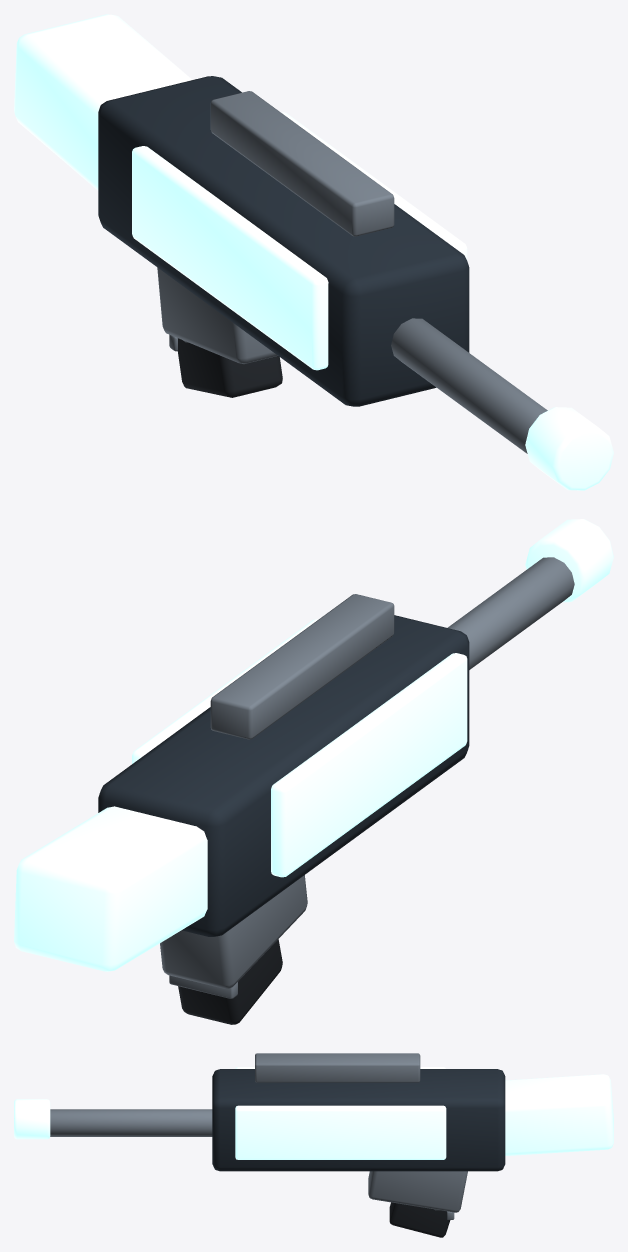
The model's file is Soldier_AssaultRifle.fbx.
3 renders of one model, top to bottom at view 1: azimuth 30°, elevation 25°; view 2: azimuth 150°, elevation 25°; view 3: azimuth 270°, elevation 25°, orthographic. The views are drawn at different scales.
Parts seen in each view (by area): view 1: Receiver.007, SideArmorLeft.003, Stock.003, TopRail.007, Barrel_00.003, MuzzleBrake.003, Magazine.001, Grip.007, SideArmorRight.003; view 2: Receiver.007, Stock.003, SideArmorLeft.003, TopRail.007, Magazine.001, Barrel_00.003, MuzzleBrake.003, Grip.007, SideArmorRight.003; view 3: Receiver.007, SideArmorRight.003, Stock.003, TopRail.007, Barrel_00.003, Magazine.001, MuzzleBrake.003, Grip.007.
Boxes of the visible parts, x1,y1,x2,y2 form: Receiver.007: [98, 76, 469, 406]; SideArmorLeft.003: [132, 146, 328, 370]; Stock.003: [14, 14, 192, 190]; TopRail.007: [210, 91, 394, 236]; Barrel_00.003: [391, 318, 547, 453]; MuzzleBrake.003: [525, 407, 613, 490]; Magazine.001: [157, 267, 277, 363]; Grip.007: [177, 338, 282, 397]; SideArmorRight.003: [281, 112, 467, 260]; Receiver.007: [98, 615, 469, 936]; Stock.003: [14, 806, 207, 971]; SideArmorLeft.003: [271, 653, 467, 877]; TopRail.007: [210, 594, 394, 739]; Magazine.001: [160, 875, 307, 988]; Barrel_00.003: [447, 557, 574, 669]; MuzzleBrake.003: [525, 519, 613, 602]; Grip.007: [178, 939, 282, 1024]; SideArmorRight.003: [132, 619, 318, 763]; Receiver.007: [212, 1069, 505, 1171]; SideArmorRight.003: [235, 1105, 446, 1159]; Stock.003: [505, 1074, 613, 1155]; TopRail.007: [255, 1053, 420, 1082]; Barrel_00.003: [50, 1109, 212, 1136]; Magazine.001: [368, 1171, 467, 1212]; MuzzleBrake.003: [14, 1099, 50, 1139]; Grip.007: [389, 1202, 450, 1237].
Bounding box in the file's own units: 96 × 179 × 563.
